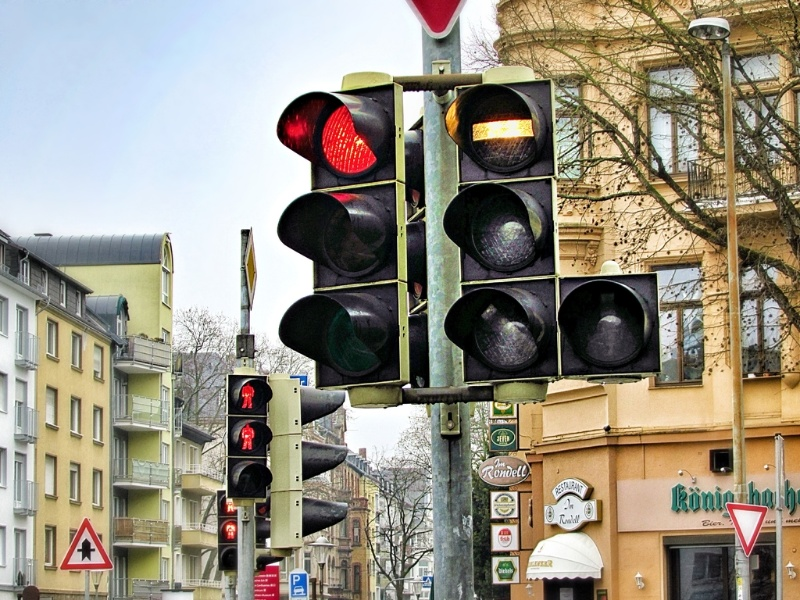red_light: (274, 91, 395, 184)
